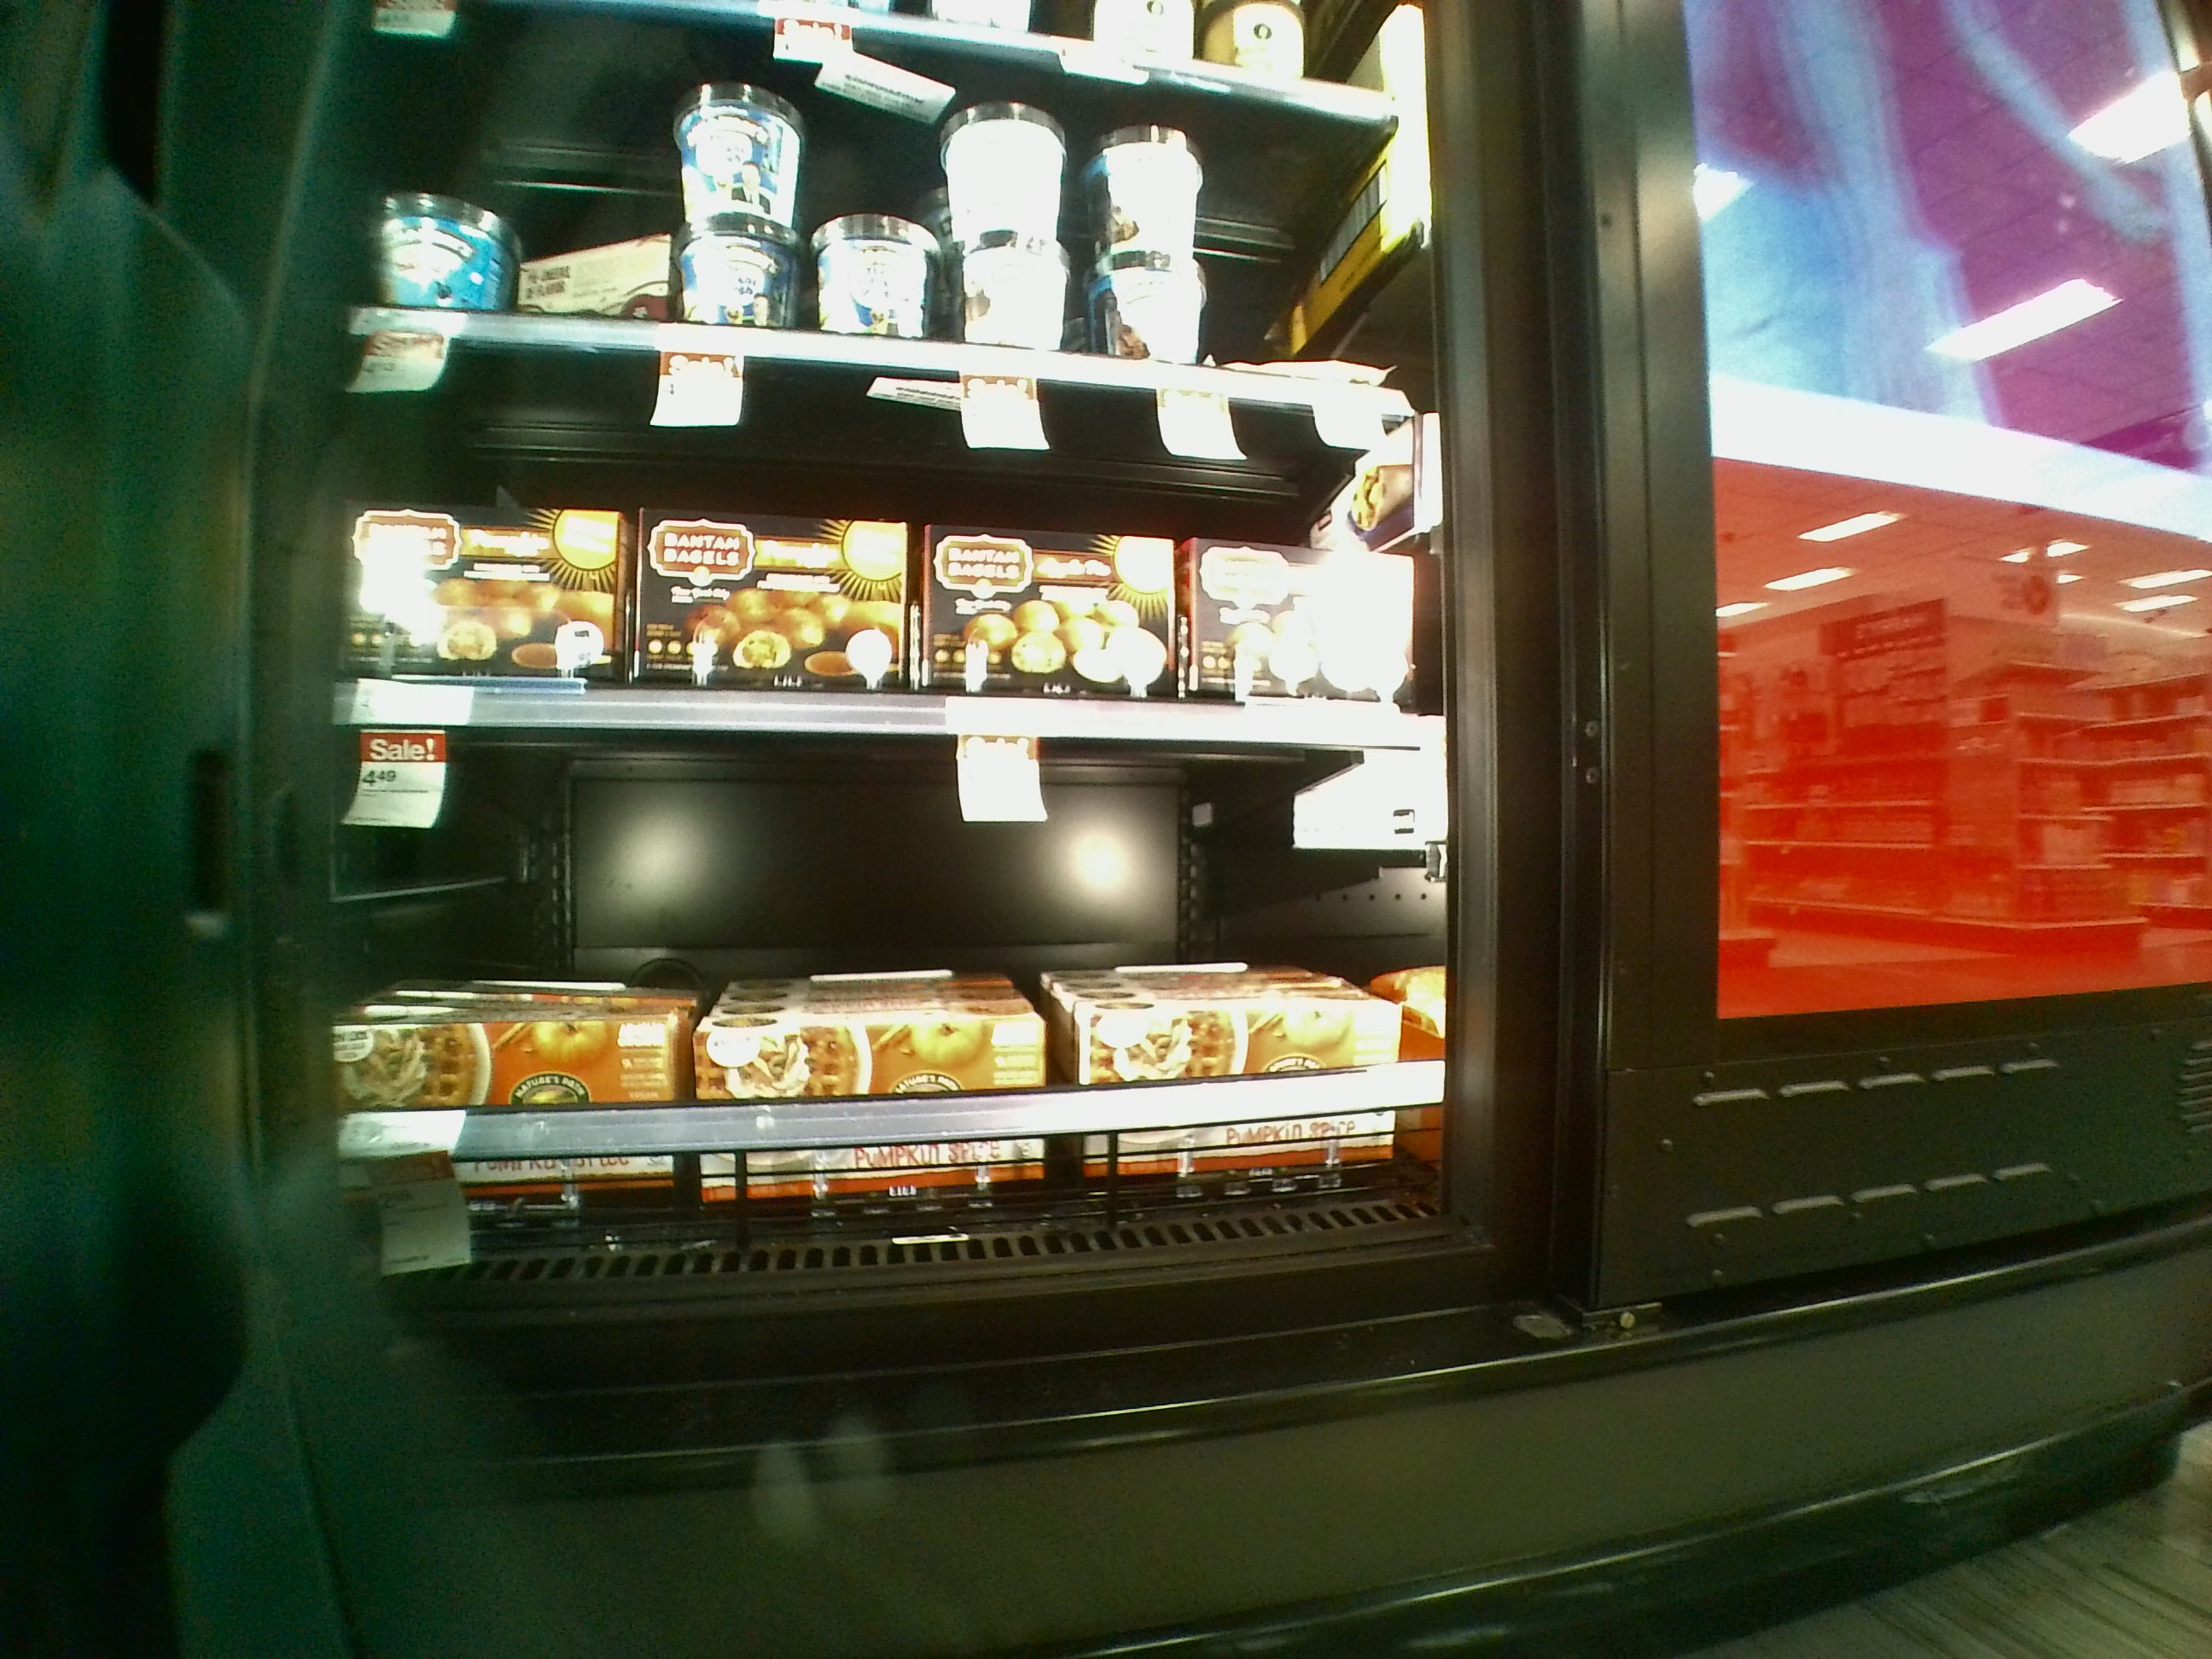shelf: (286, 706, 1496, 1290), (324, 333, 1442, 746)
